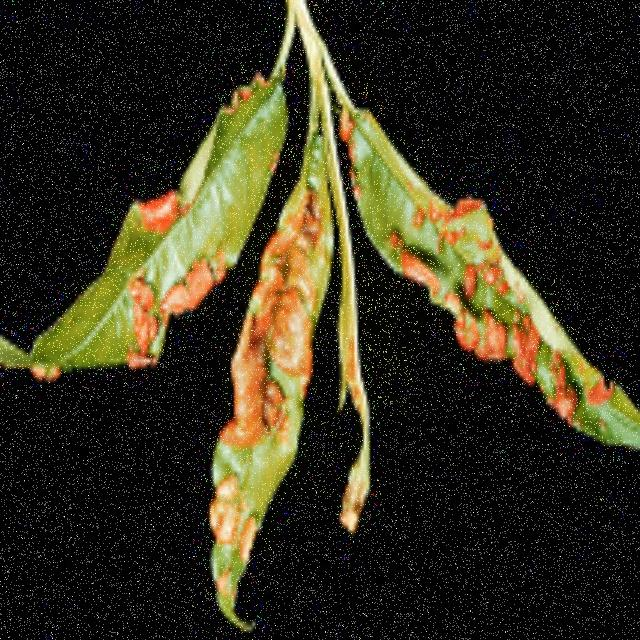leaf_curl: (341, 81, 640, 449), (37, 66, 283, 384), (201, 149, 332, 610)
